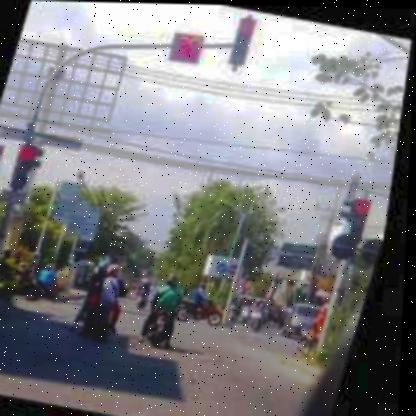Traffic Light -Red-: (351, 193, 382, 241), (230, 16, 258, 66), (12, 144, 42, 190)
